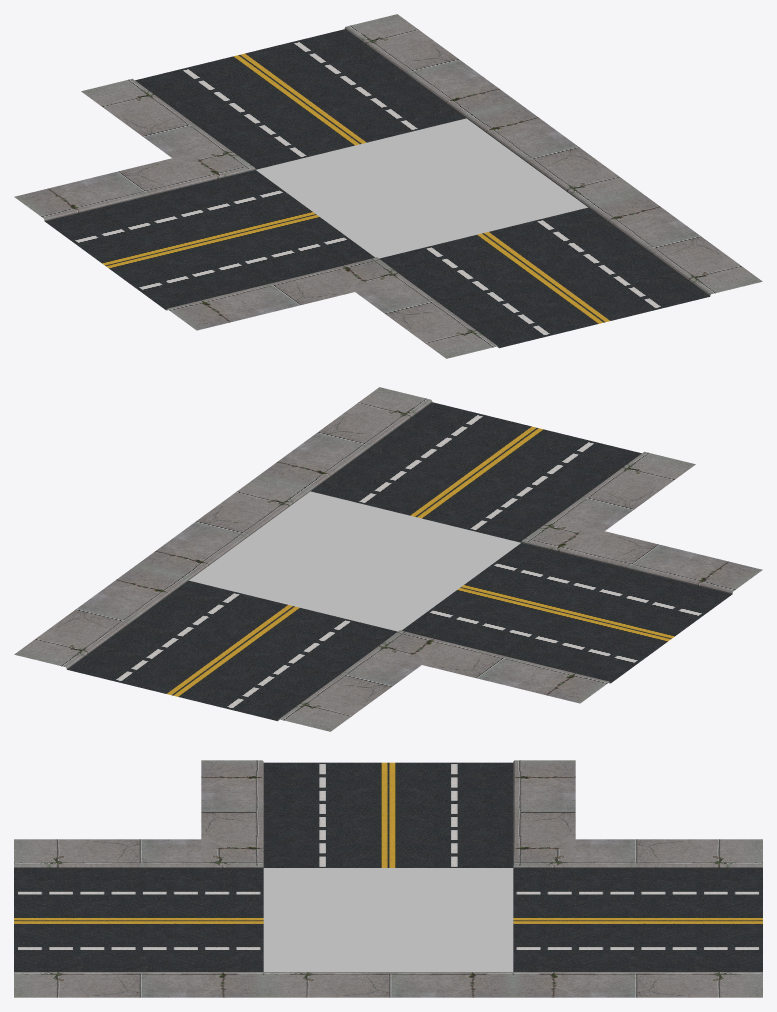
Rendered from road_intersection.obj.
3 renders of one model, top to bottom at view 1: azimuth 30°, elevation 25°; view 2: azimuth 150°, elevation 25°; view 3: azimuth 270°, elevation 25°, orthographic. The views are drawn at different scales.
Parts seen in each view (by area): view 1: ROAD_TILE_Plane.001; view 2: ROAD_TILE_Plane.001; view 3: ROAD_TILE_Plane.001.
Boxes of the visible parts, left/top/right/bottom form: ROAD_TILE_Plane.001: left=14, top=14, right=762, bottom=358; ROAD_TILE_Plane.001: left=14, top=387, right=762, bottom=731; ROAD_TILE_Plane.001: left=14, top=760, right=762, bottom=997.
Bounding box in the file's own units: 45 × 0.2 × 60.
